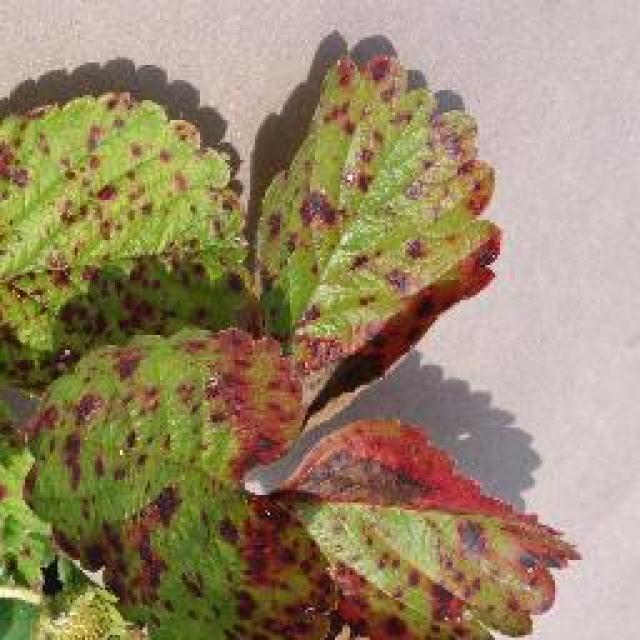Strawberry leaf scorch: (0, 111, 308, 555)
